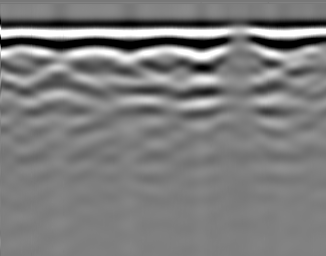pipe: (222, 25, 260, 58)
steel: (34, 67, 84, 106)
